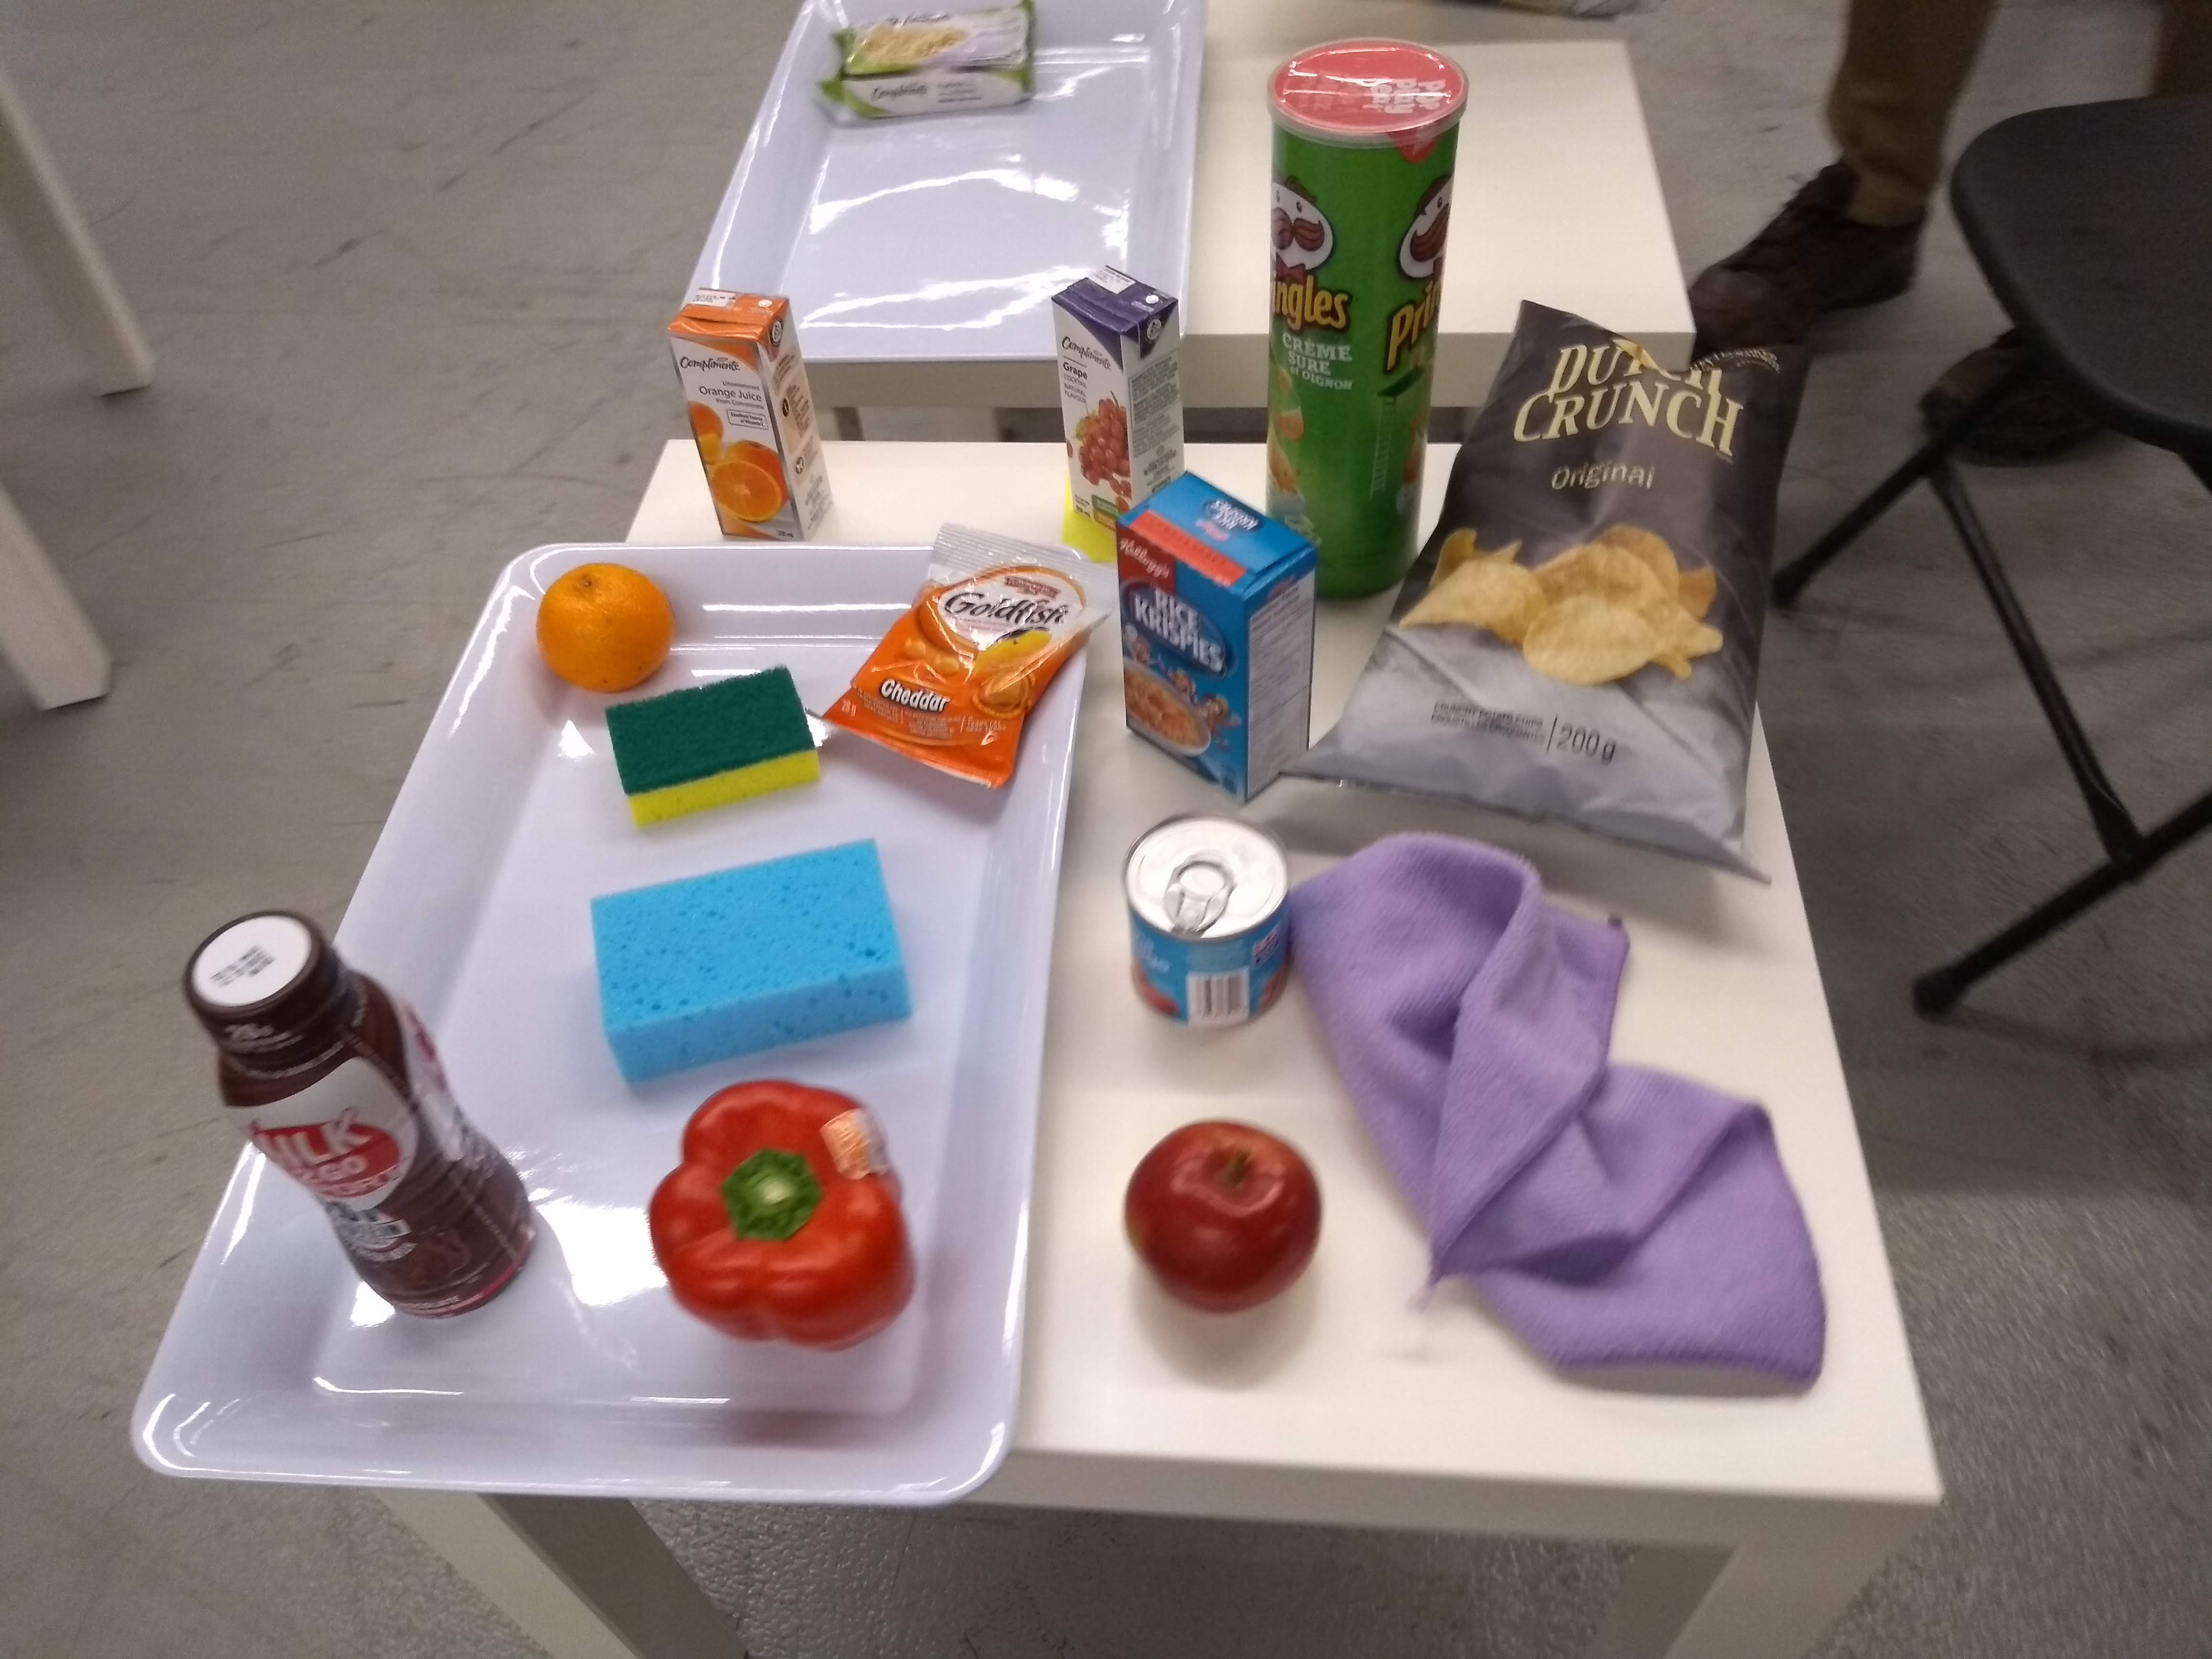apple: (1115, 1112, 1331, 1319)
cereal: (1108, 458, 1322, 812)
chocolate_drink: (174, 894, 552, 1319)
cloth_opl: (1275, 831, 1843, 1406)
crackers: (808, 523, 1132, 807)
grape_juice: (1049, 258, 1197, 538)
orange: (535, 549, 679, 702)
orange_juice: (662, 284, 852, 554)
paprika: (641, 1077, 930, 1359)
potato_chips: (1282, 286, 1829, 878)
sausages: (1118, 809, 1301, 1035)
sponge_opl: (580, 833, 920, 1082)
